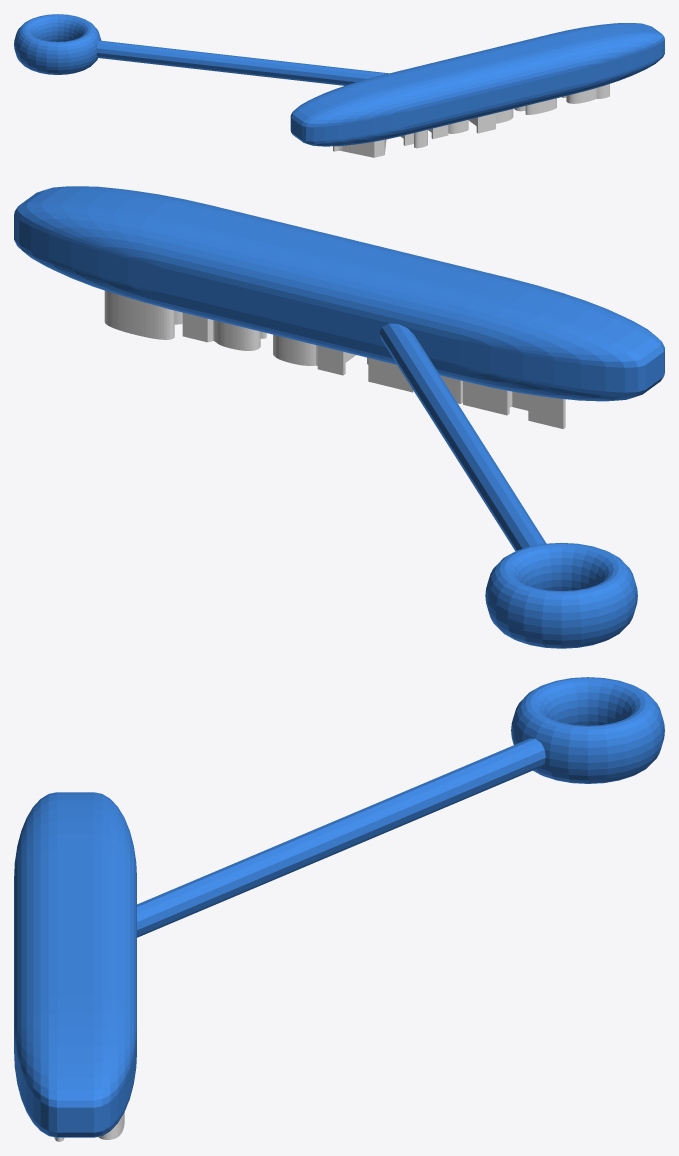
Rendered from airbag.obj.
The picture shows the model from 3 angles, top to bottom: view 1: azimuth 30°, elevation 25°; view 2: azimuth 150°, elevation 25°; view 3: azimuth 270°, elevation 25°; orthographic projection. The views are drawn at different scales.
Parts seen in each view (by area): view 1: group_0_3836137, group_0_16448250; view 2: group_0_3836137, group_0_16448250; view 3: group_0_3836137.
Boxes of the visible parts, x1,y1,x2,y2 form: group_0_3836137: [14, 14, 664, 146]; group_0_16448250: [333, 84, 609, 157]; group_0_3836137: [14, 186, 664, 648]; group_0_16448250: [104, 290, 565, 429]; group_0_3836137: [14, 677, 664, 1137].
Size of the model in its own units: 32.45 by 3.93 by 21.14.
